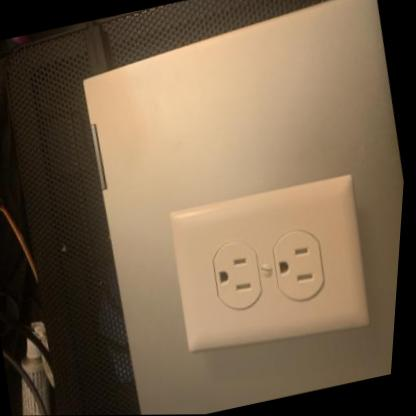OUTLET: (155, 166, 385, 367)
